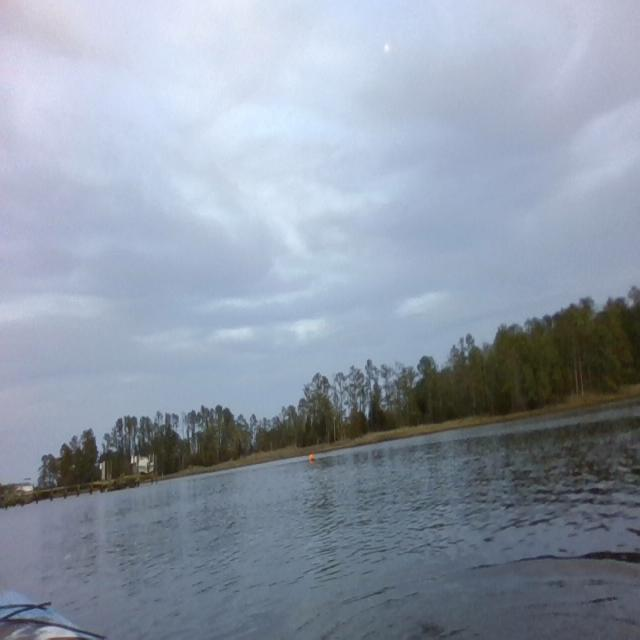Buoy: (308, 452, 315, 463)
